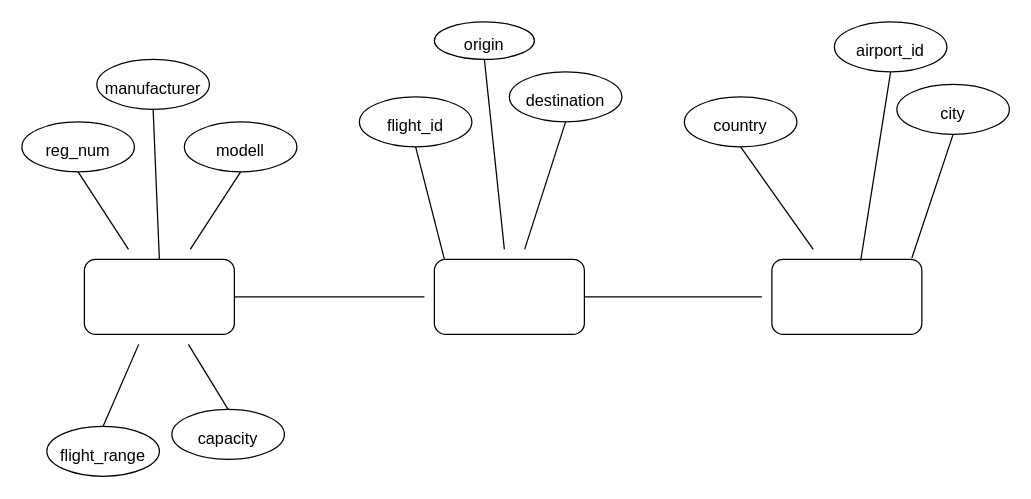
The diagram is 1031 pixels wide and 499 high, and some of its shapes have lost their labels. Each missing label, with the centre of its shape:
"Airports" goes at point 846,296.
"Flights" goes at point 508,296.
"Planes" goes at point 158,296.
